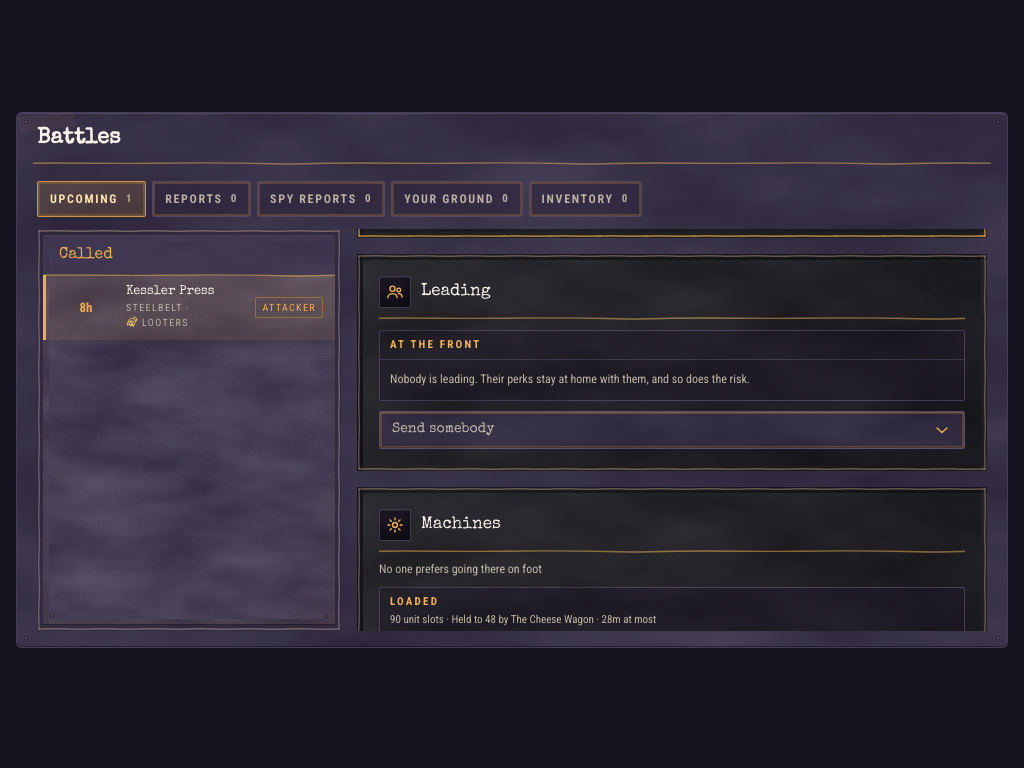
it: the officer picker › greys an officer whose road is longer than the time left, and says so
(page scrolled)
Click the dropdown with test id "lead-officer-picker" at (443, 429), box x1=379 y1=411 x2=965 y2=449
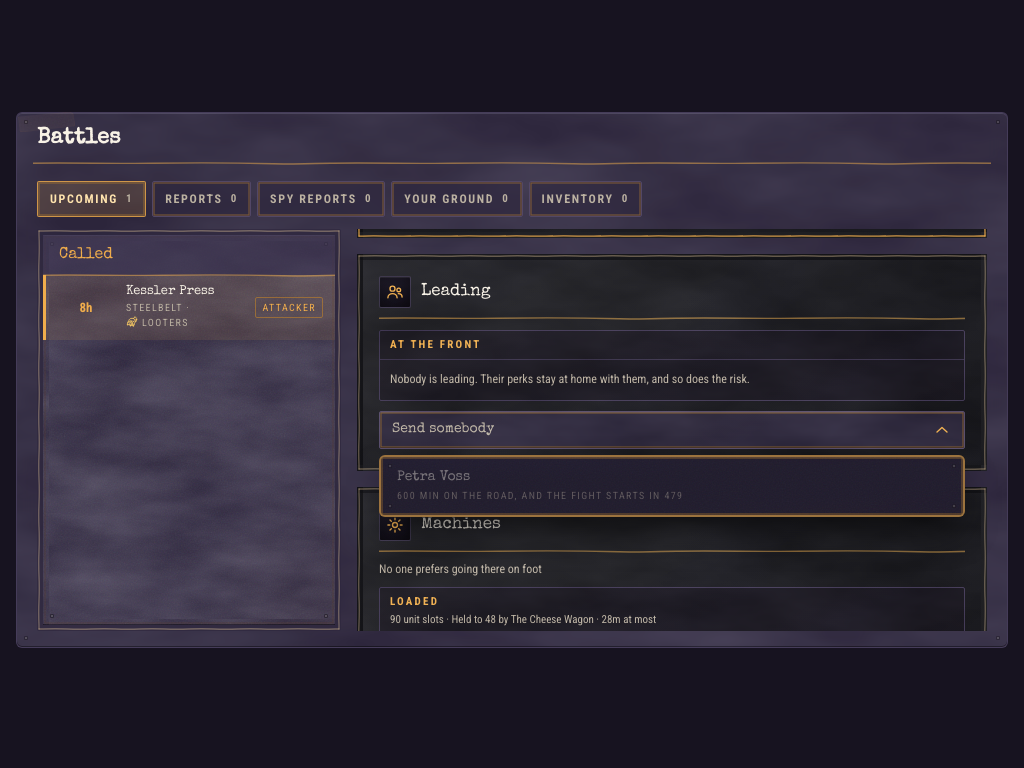
Now the option shows "600 min on the road, and the fight starts in", box x1=397 y1=470 x2=683 y2=501
